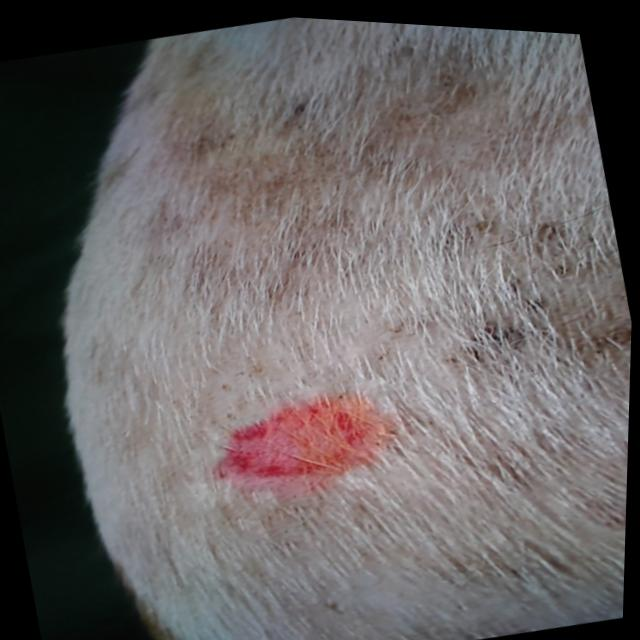ringworm: (179, 375, 403, 507)
